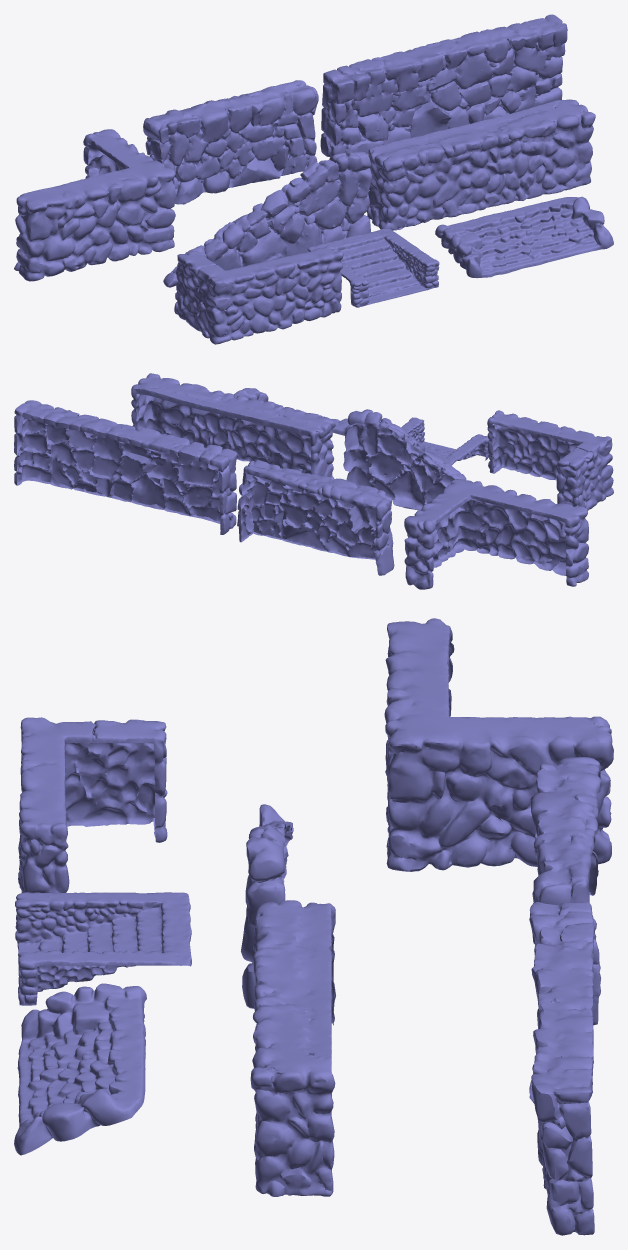
3 views of the same model, one above another, from view 1: azimuth 30°, elevation 25°; view 2: azimuth 150°, elevation 25°; view 3: azimuth 270°, elevation 25° (orthographic). The views are drawn at different scales.
Visible parts, largest first — view 1: 多边形_8, 多边形_3, 多边形_5, 多边形_7, 多边形_2, 多边形, 多边形_6, 多边形_4; view 2: 多边形_8, 多边形_5, 多边形_3, 多边形_7, 多边形_2, 多边形, 多边形_4, 多边形_6; view 3: 多边形_5, 多边形_3, 多边形_2, 多边形_8, 多边形_6, 多边形_4, 多边形_7, 多边形.
Boxes of the visible parts, x1=… form: 多边形_8: x1=320, y1=14, x2=567, y2=157; 多边形_3: x1=367, y1=99, x2=595, y2=230; 多边形_5: x1=14, y1=129, x2=175, y2=281; 多边形_7: x1=143, y1=80, x2=318, y2=204; 多边形_2: x1=174, y1=245, x2=343, y2=344; 多边形: x1=163, y1=151, x2=371, y2=287; 多边形_6: x1=435, y1=196, x2=613, y2=278; 多边形_4: x1=307, y1=228, x2=439, y2=307; 多边形_8: x1=14, y1=400, x2=237, y2=534; 多边形_5: x1=404, y1=479, x2=588, y2=589; 多边形_3: x1=131, y1=373, x2=335, y2=478; 多边形_7: x1=237, y1=459, x2=394, y2=575; 多边形_2: x1=487, y1=410, x2=613, y2=510; 多边形: x1=343, y1=409, x2=472, y2=510; 多边形_4: x1=401, y1=417, x2=489, y2=465; 多边形_6: x1=233, y1=388, x2=349, y2=435; 多边形_5: x1=384, y1=618, x2=613, y2=871; 多边形_3: x1=250, y1=900, x2=335, y2=1196; 多边形_2: x1=18, y1=717, x2=167, y2=893; 多边形_8: x1=529, y1=902, x2=594, y2=1235; 多边形_6: x1=14, y1=983, x2=146, y2=1155; 多边形_4: x1=15, y1=892, x2=191, y2=1005; 多边形_7: x1=530, y1=757, x2=601, y2=1025; 多边形: x1=241, y1=804, x2=293, y2=1008.
Bounding box in the file's own units: 55.72 × 8.63 × 28.54.
